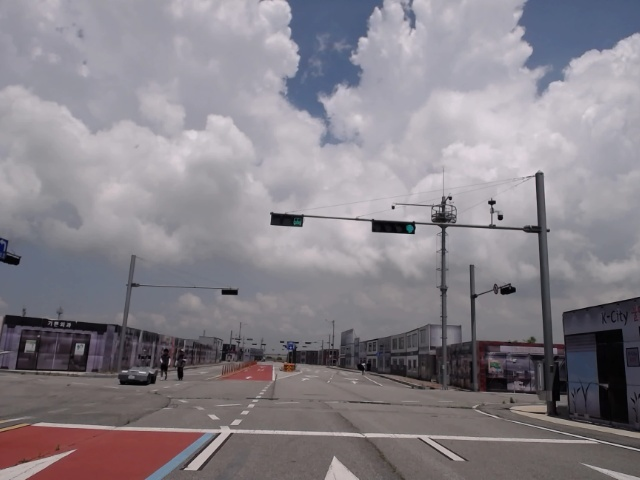straight_green_4: (371, 219, 415, 236)
